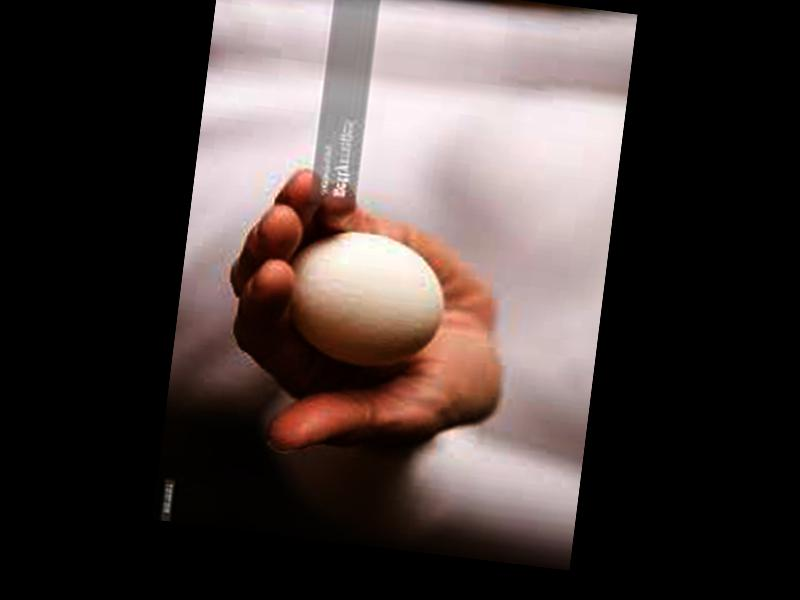Eggs: (280, 224, 449, 376)
